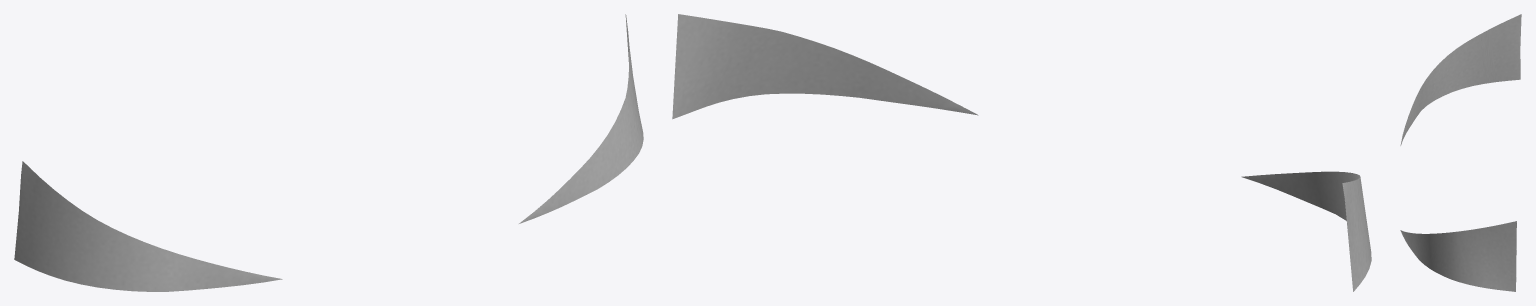
The model's file is Jac_COP_UNDERJac_Face.glb.
The picture shows the model from 3 angles, left to right: view 1: azimuth 30°, elevation 25°; view 2: azimuth 150°, elevation 25°; view 3: azimuth 270°, elevation 25°; orthographic projection. The views are drawn at different scales.
Visible parts, largest first — view 1: Jac_COP_UNDERJac_Face1; view 2: Jac_COP_UNDERJac_Face1; view 3: Jac_COP_UNDERJac_Face1.
Part boxes in pixels (bbox=[...]): Jac_COP_UNDERJac_Face1: bbox=[14, 14, 643, 291]; Jac_COP_UNDERJac_Face1: bbox=[672, 14, 1371, 291]; Jac_COP_UNDERJac_Face1: bbox=[1400, 14, 1521, 291].
Bounding box in the file's own units: 0.6315 × 0.1026 × 0.1509.
Materials: 1 (1 with a texture image).
